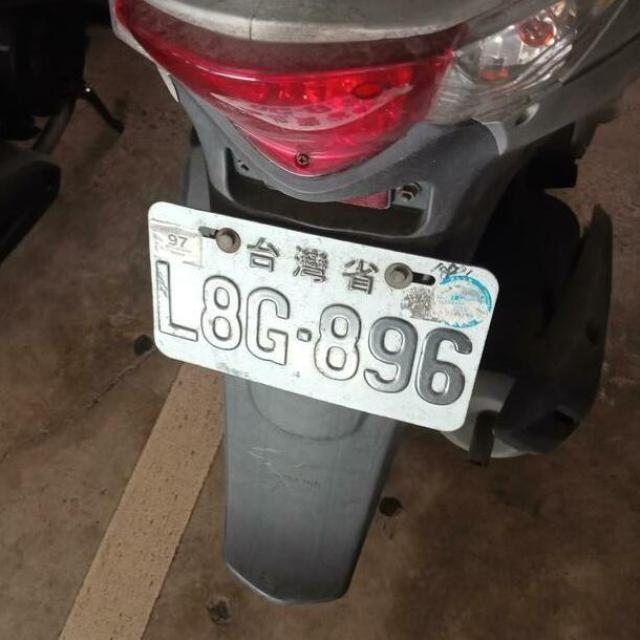W: (125, 193, 509, 445)
